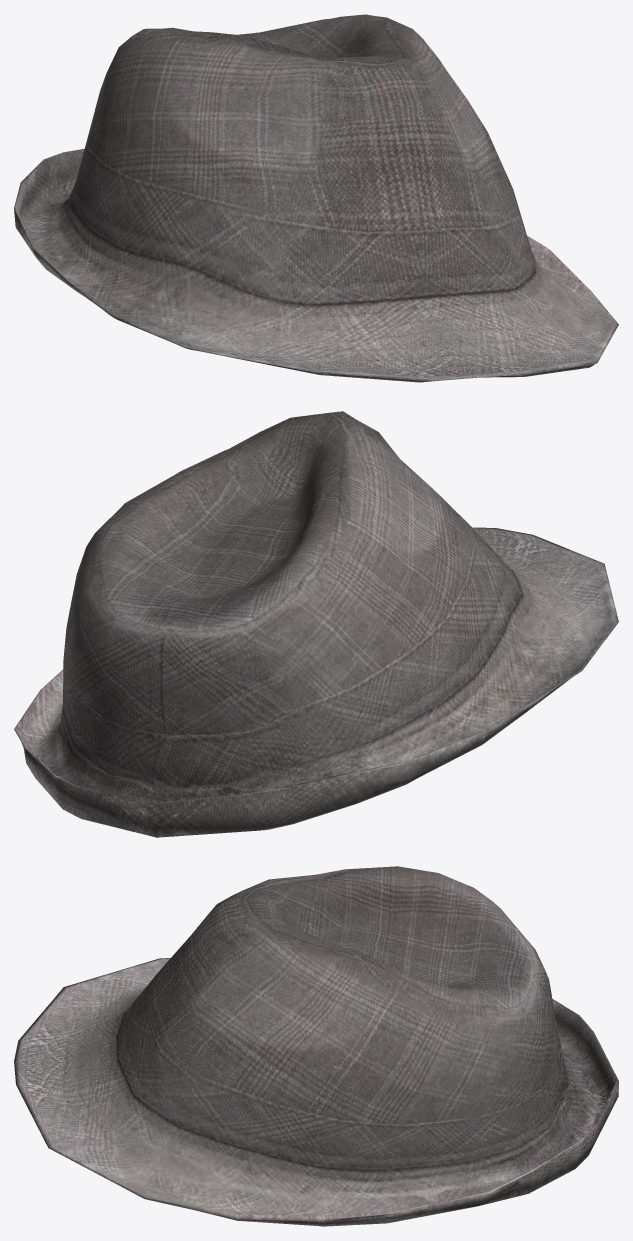
The model's file is fedora-cocked.glb.
3 views of the same model, one above another, from view 1: azimuth 30°, elevation 25°; view 2: azimuth 150°, elevation 25°; view 3: azimuth 270°, elevation 25° (orthographic). The views are drawn at different scales.
Visible parts, largest first — view 1: Human.fedora_cocked; view 2: Human.fedora_cocked; view 3: Human.fedora_cocked.
Boxes of the visible parts, <box> form: Human.fedora_cocked: <box>14,14,618,382</box>; Human.fedora_cocked: <box>14,411,618,837</box>; Human.fedora_cocked: <box>14,866,618,1226</box>.
Bounding box in the file's own units: 0.1944 × 0.1129 × 0.2485.
1 material, 1 textured.
